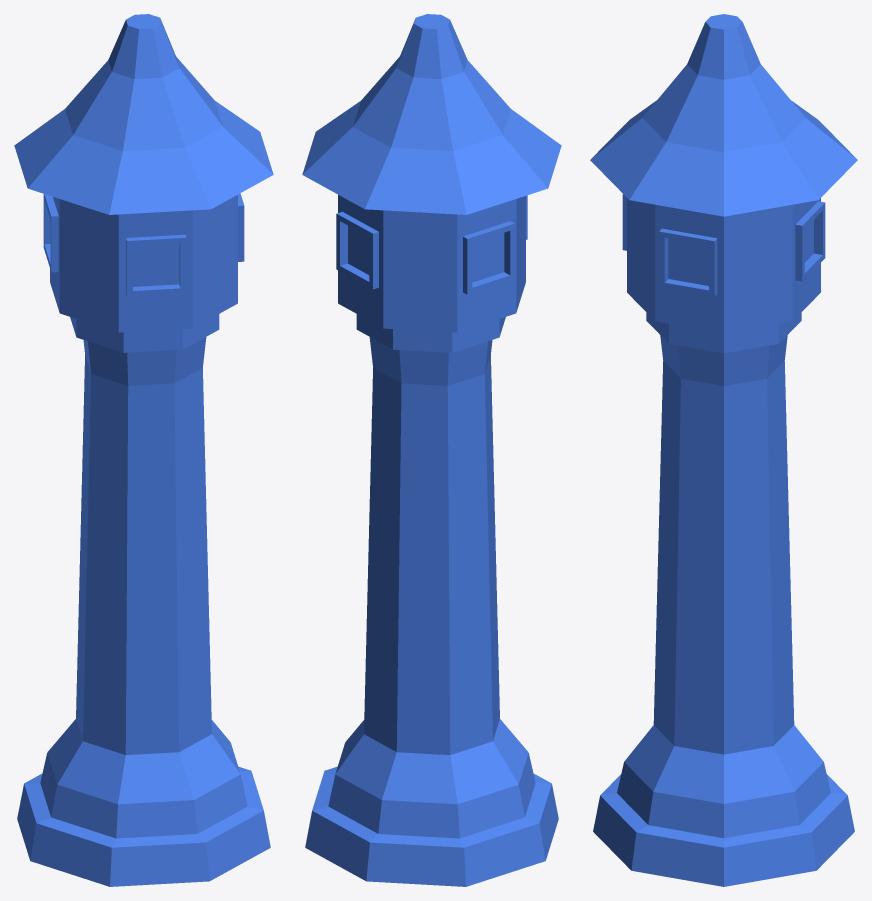
The model's file is Tower_Stone_Variant1.fbx.
The picture shows the model from 3 angles, left to right: view 1: azimuth 30°, elevation 25°; view 2: azimuth 150°, elevation 25°; view 3: azimuth 270°, elevation 25°; orthographic projection.
Visible parts, largest first — view 1: Tower_Stone_Variant1; view 2: Tower_Stone_Variant1; view 3: Tower_Stone_Variant1.
Part boxes in pixels (<box>): Tower_Stone_Variant1: <box>14,14,273,886</box>; Tower_Stone_Variant1: <box>302,14,561,886</box>; Tower_Stone_Variant1: <box>590,14,857,886</box>.
Size of the model in its own units: 211 by 714 by 211.
